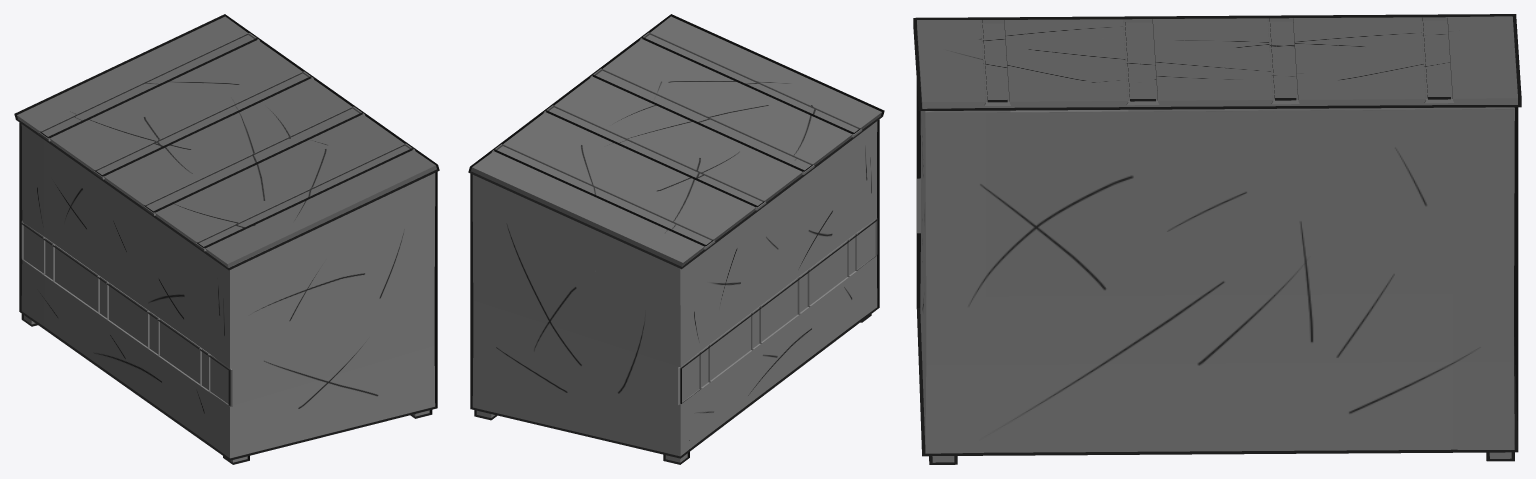
Rendered from Contenedor.fbx.
The picture shows the model from 3 angles, left to right: view 1: azimuth 30°, elevation 25°; view 2: azimuth 150°, elevation 25°; view 3: azimuth 270°, elevation 25°; orthographic projection. The views are drawn at different scales.
Parts seen in each view (by area): view 1: basura; view 2: basura; view 3: basura.
Part boxes in pixels (bbox=[...]): basura: bbox=[14, 14, 439, 464]; basura: bbox=[468, 14, 884, 464]; basura: bbox=[913, 14, 1521, 464].
Size of the model in its own units: 83.03 by 91.05 by 137.
